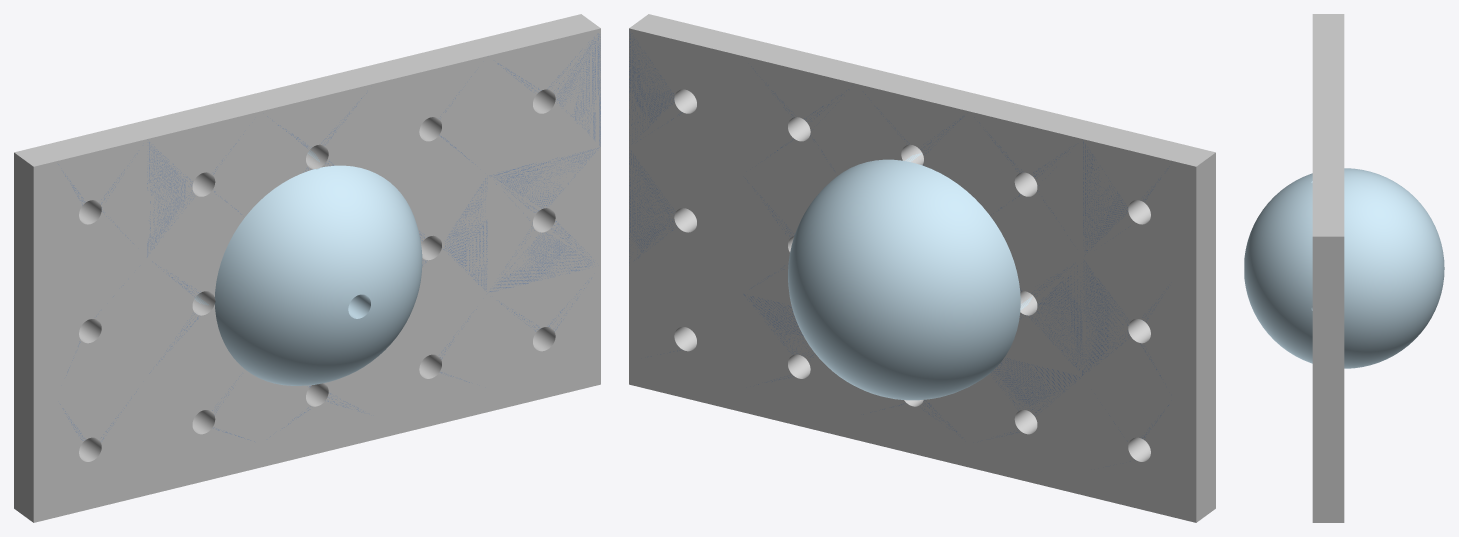
3 views of the same model, side by side, from view 1: azimuth 30°, elevation 25°; view 2: azimuth 150°, elevation 25°; view 3: azimuth 270°, elevation 25° (orthographic). The views are drawn at different scales.
Visible parts, largest first — view 1: Part 2, Part 1, Part 3; view 2: Part 2, Part 1, Part 3; view 3: Part 1, Part 2.
Part boxes in pixels (bbox=[...]): Part 2: bbox=[14, 14, 600, 522]; Part 1: bbox=[195, 150, 422, 385]; Part 3: bbox=[58, 33, 600, 441]; Part 2: bbox=[629, 14, 1215, 522]; Part 1: bbox=[788, 153, 1032, 400]; Part 3: bbox=[629, 33, 1169, 461]; Part 1: bbox=[1244, 168, 1444, 368]; Part 2: bbox=[1312, 14, 1344, 522].
Bounding box in the file's own units: 0.2 × 0.12 × 0.076.
